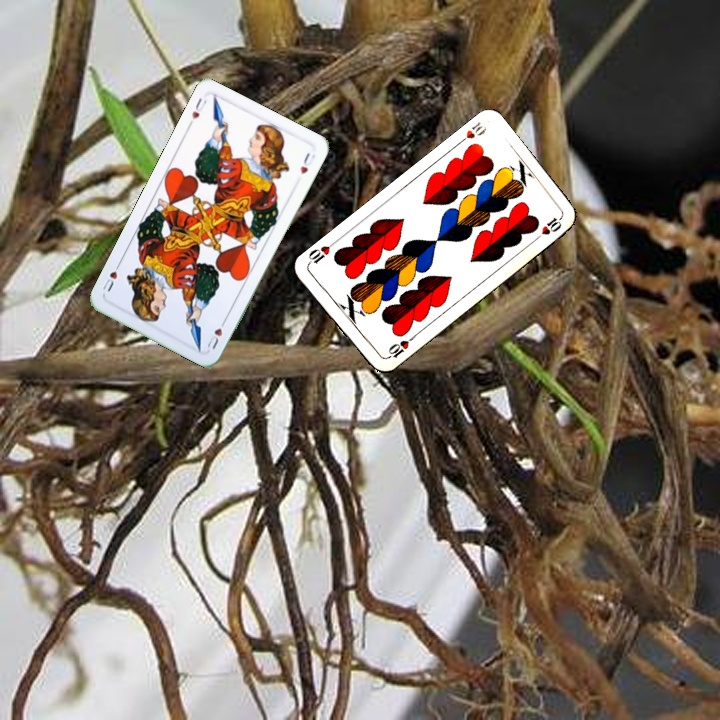H10: (452, 118, 489, 148), (381, 332, 416, 362)
HU: (202, 314, 229, 352), (188, 94, 209, 122)
